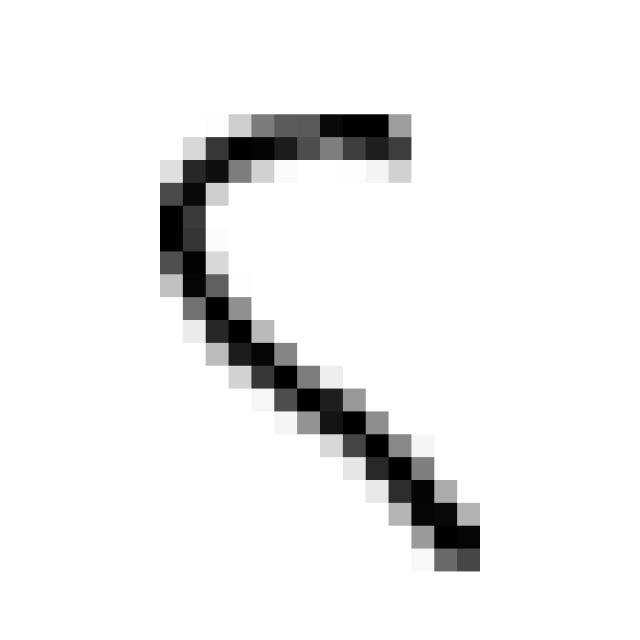2 -two-: (140, 87, 498, 592)
